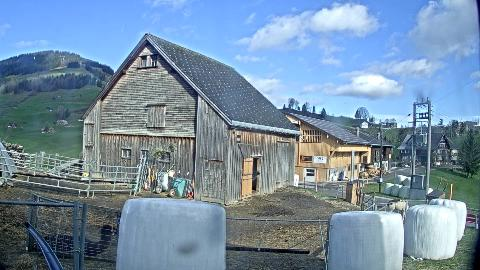sheep: (38, 224, 118, 258), (388, 199, 408, 221), (250, 170, 260, 182)
